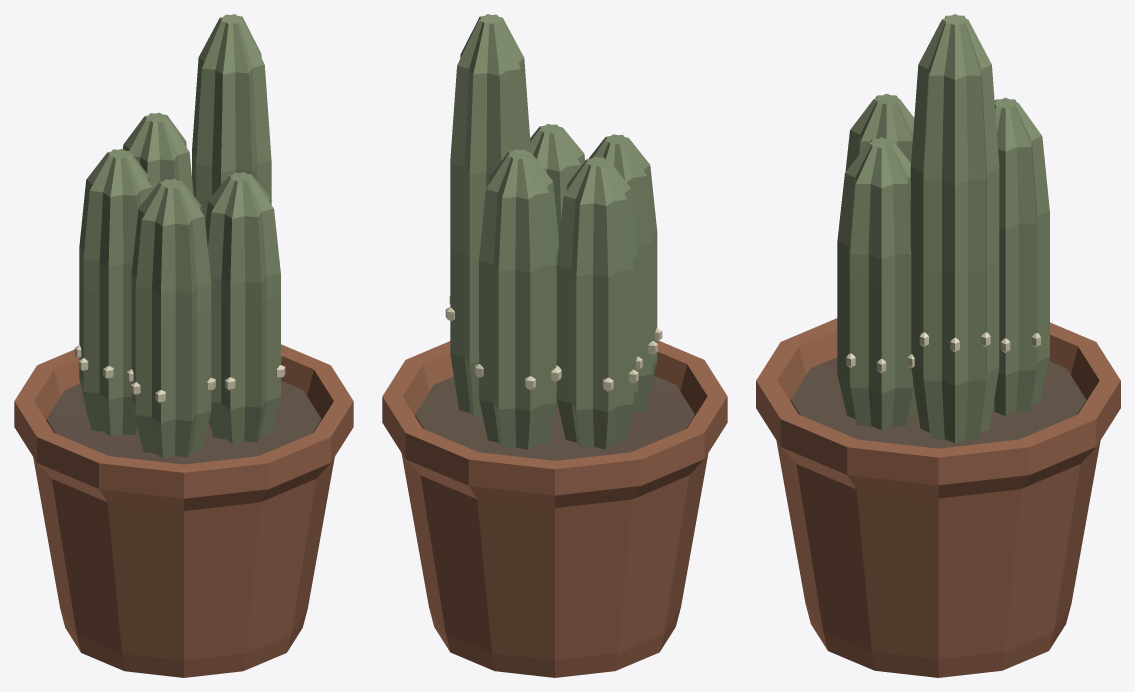
File: new-gracilis.glb
3 views of the same model, side by side, from view 1: azimuth 30°, elevation 25°; view 2: azimuth 150°, elevation 25°; view 3: azimuth 270°, elevation 25° (orthographic). The views are drawn at different scales.
Parts seen in each view (by area): view 1: new-gracilis/review-terra-vessel, new-gracilis/ribbed-stem-022, new-gracilis/ribbed-stem-029, new-gracilis/ribbed-stem-015, new-gracilis/ribbed-stem-001, new-gracilis/review-rooted-soil, new-gracilis/ribbed-stem-008; view 2: new-gracilis/review-terra-vessel, new-gracilis/ribbed-stem-008, new-gracilis/ribbed-stem-015, new-gracilis/ribbed-stem-001, new-gracilis/review-rooted-soil, new-gracilis/ribbed-stem-022, new-gracilis/ribbed-stem-029; view 3: new-gracilis/review-terra-vessel, new-gracilis/ribbed-stem-001, new-gracilis/ribbed-stem-029, new-gracilis/ribbed-stem-008, new-gracilis/review-rooted-soil, new-gracilis/ribbed-stem-022.
Boxes of the visible parts, x1=… form: new-gracilis/review-terra-vessel: x1=14, y1=344, x2=353, y2=677; new-gracilis/ribbed-stem-022: x1=131, y1=178, x2=211, y2=458; new-gracilis/ribbed-stem-029: x1=205, y1=172, x2=280, y2=443; new-gracilis/ribbed-stem-015: x1=79, y1=149, x2=152, y2=436; new-gracilis/ribbed-stem-001: x1=192, y1=14, x2=271, y2=223; new-gracilis/review-rooted-soil: x1=46, y1=380, x2=321, y2=464; new-gracilis/ribbed-stem-008: x1=123, y1=112, x2=193, y2=195; new-gracilis/review-terra-vessel: x1=382, y1=341, x2=727, y2=677; new-gracilis/ribbed-stem-008: x1=479, y1=149, x2=558, y2=449; new-gracilis/ribbed-stem-015: x1=556, y1=157, x2=637, y2=449; new-gracilis/ribbed-stem-001: x1=450, y1=14, x2=530, y2=418; new-gracilis/review-rooted-soil: x1=415, y1=375, x2=694, y2=460; new-gracilis/ribbed-stem-022: x1=588, y1=134, x2=657, y2=413; new-gracilis/ribbed-stem-029: x1=530, y1=124, x2=584, y2=241; new-gracilis/review-terra-vessel: x1=756, y1=318, x2=1120, y2=677; new-gracilis/ribbed-stem-001: x1=910, y1=14, x2=999, y2=443; new-gracilis/ribbed-stem-029: x1=837, y1=137, x2=917, y2=430; new-gracilis/ribbed-stem-008: x1=992, y1=97, x2=1049, y2=415; new-gracilis/review-rooted-soil: x1=790, y1=357, x2=1086, y2=448; new-gracilis/ribbed-stem-022: x1=845, y1=93, x2=914, y2=171.
Bounding box in the file's own units: 0.19 × 0.3642 × 0.19.
Materials: 4 (4 with a texture image).
